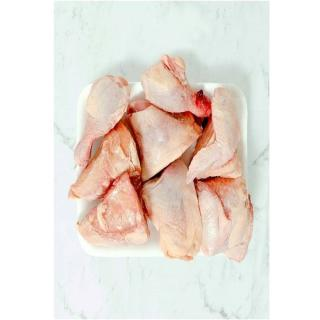Ayam: (67, 53, 257, 265), (142, 158, 206, 265), (73, 71, 134, 172), (78, 169, 152, 249), (187, 84, 244, 186), (197, 177, 257, 264), (141, 54, 213, 120)
